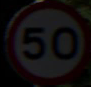Speed limit: (11, 3, 88, 78)
